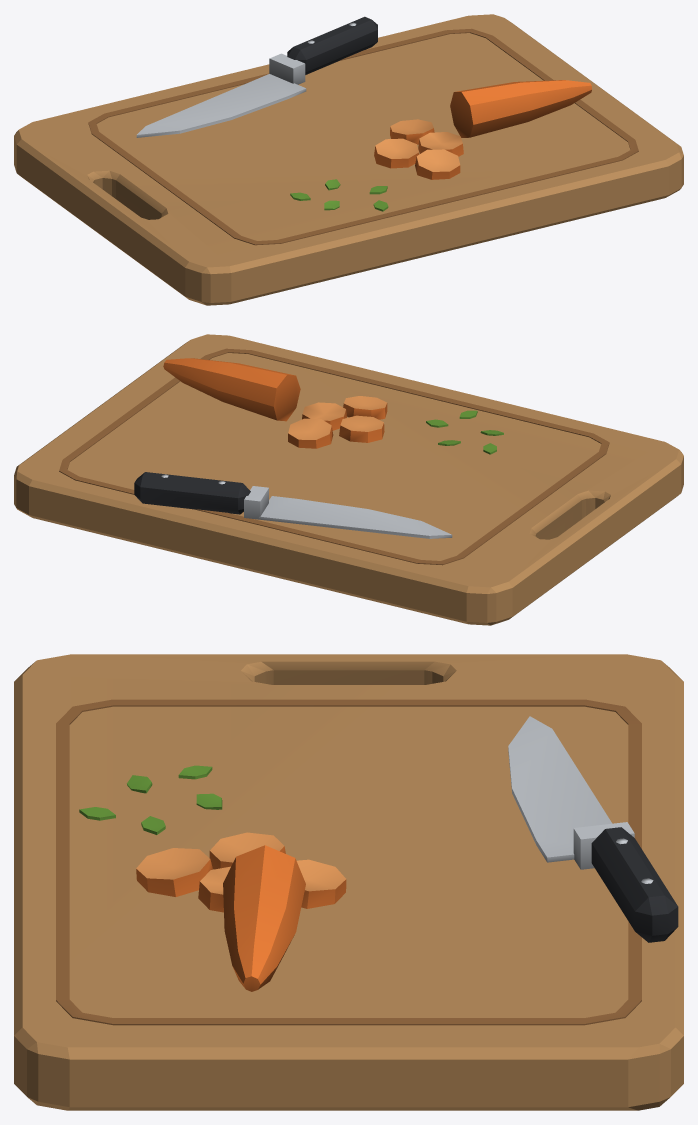
Rendered from board.glb.
3 renders of one model, top to bottom at view 1: azimuth 30°, elevation 25°; view 2: azimuth 150°, elevation 25°; view 3: azimuth 270°, elevation 25°, orthographic. The views are drawn at different scales.
Parts seen in each view (by area): view 1: board; view 2: board; view 3: board.
Boxes of the visible parts, bbox=[...] form: board: bbox=[14, 14, 683, 305]; board: bbox=[14, 334, 683, 625]; board: bbox=[14, 654, 683, 1110].
Size of the model in its own units: 0.34 by 0.0552 by 0.24.
